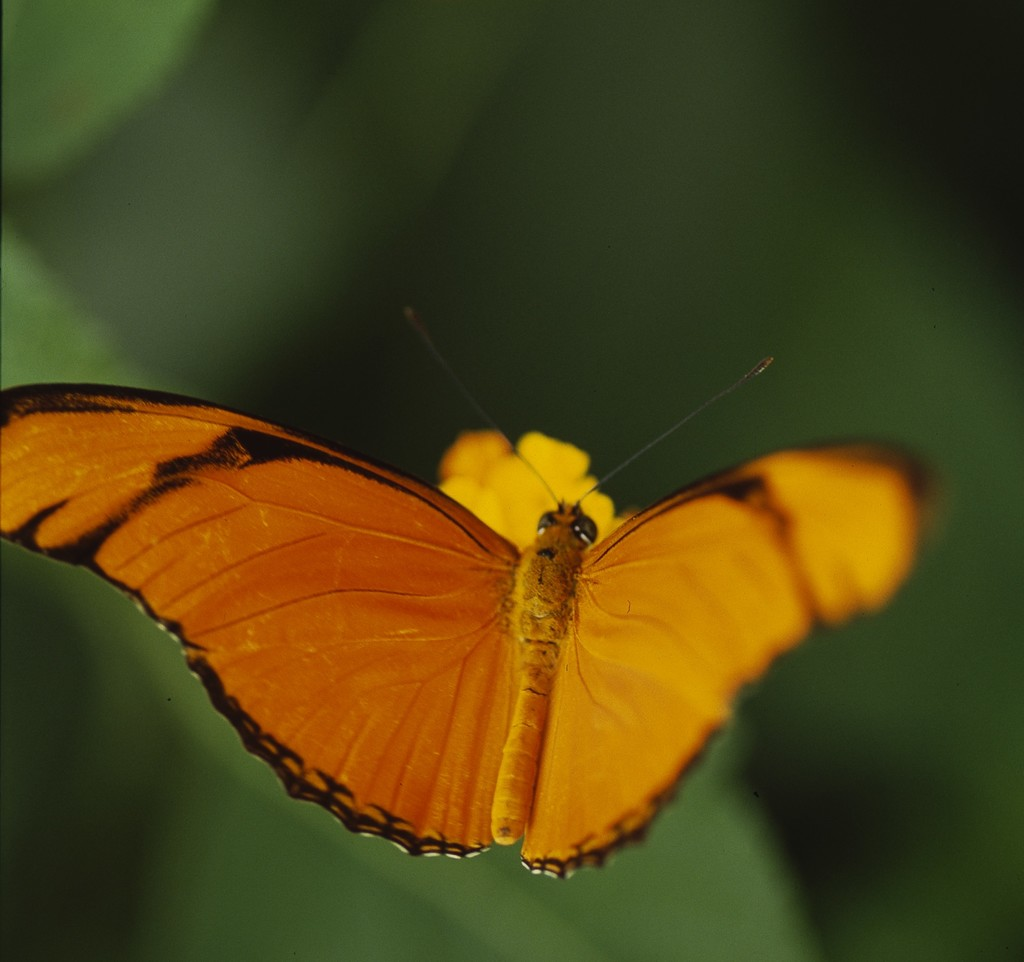Butterfly: (5, 360, 930, 873)
